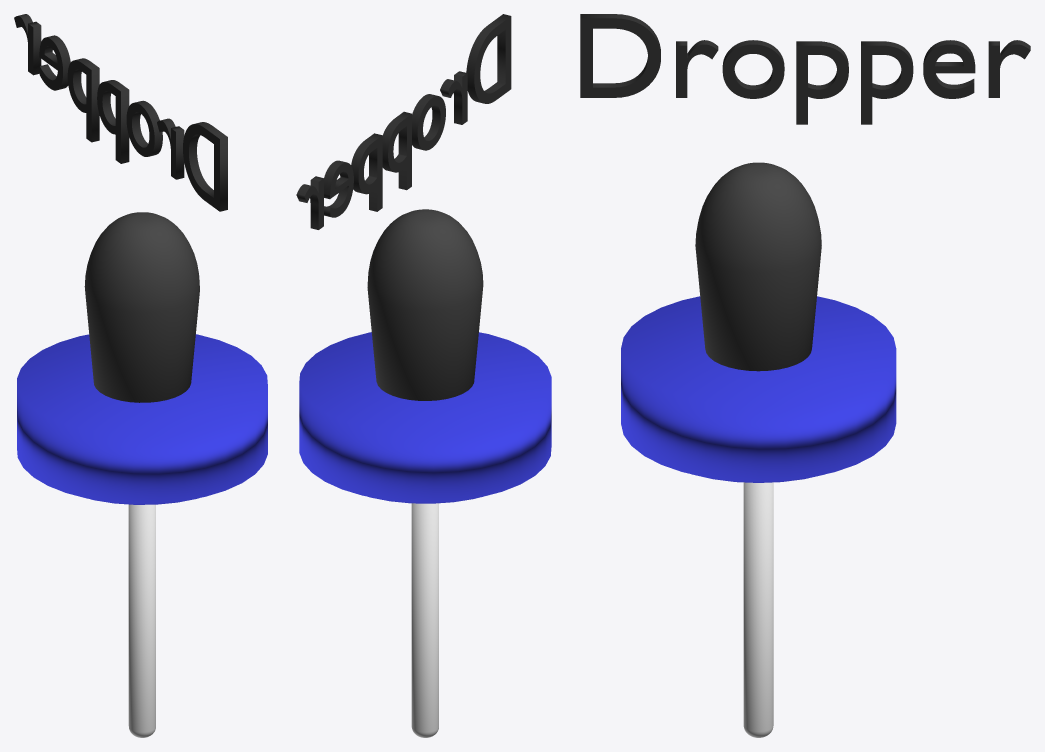
The model's file is dropper.glb.
3 views of the same model, side by side, from view 1: azimuth 30°, elevation 25°; view 2: azimuth 150°, elevation 25°; view 3: azimuth 270°, elevation 25° (orthographic). The views are drawn at different scales.
Parts seen in each view (by area): view 1: Cylinder.001, Cylinder, Text, Cylinder.002; view 2: Cylinder.001, Cylinder, Text, Cylinder.002; view 3: Cylinder.001, Cylinder, Text, Cylinder.002.
Part boxes in pixels (bbox=[...]): Cylinder.001: bbox=[17, 334, 267, 504]; Cylinder: bbox=[84, 212, 199, 402]; Text: bbox=[14, 14, 227, 211]; Cylinder.002: bbox=[128, 504, 155, 737]; Cylinder.001: bbox=[299, 332, 551, 503]; Cylinder: bbox=[367, 209, 483, 400]; Text: bbox=[296, 14, 511, 229]; Cylinder.002: bbox=[411, 503, 438, 737]; Cylinder.001: bbox=[621, 296, 896, 482]; Cylinder: bbox=[695, 162, 821, 371]; Text: bbox=[580, 14, 1030, 124]; Cylinder.002: bbox=[743, 482, 773, 737].
Size of the model in its own units: 0.7553 by 2.18 by 1.24.
